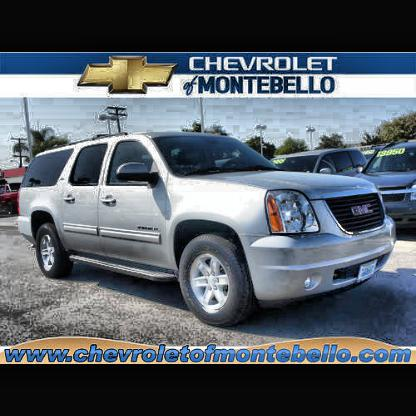GMC Yukon Hybrid SUV 2012: (12, 132, 402, 333)
